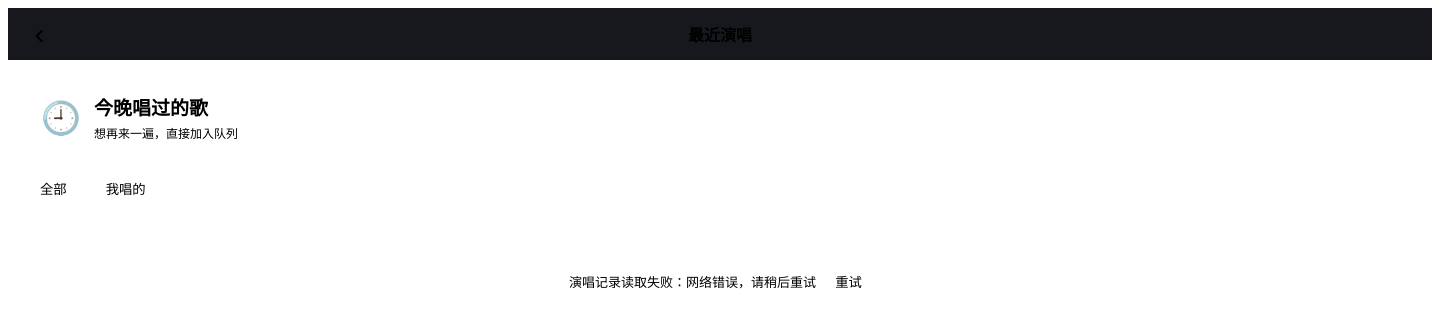
RecentHistoryView › shows fallback text for history errors and safely formats missing timestamps
This screenshot has width=1440, height=312.
Check: the element with class "error-tip" shows "网络错误，请稍后重试", box x1=569 y1=275 x2=819 y2=290
Click the button with class "retry": click(849, 282) x1=826 y1=268 x2=871 y2=295
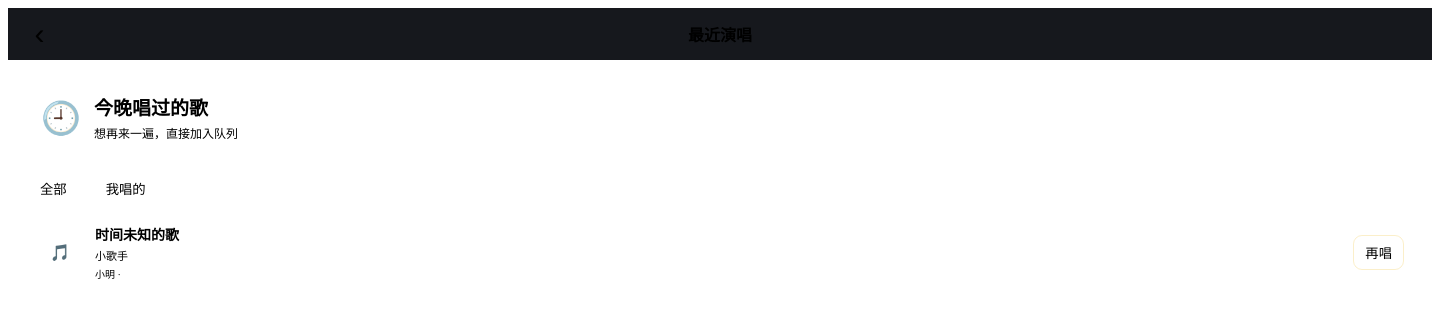
Check: the text "小明 ·" is shown, box x1=95 y1=269 x2=121 y2=280
